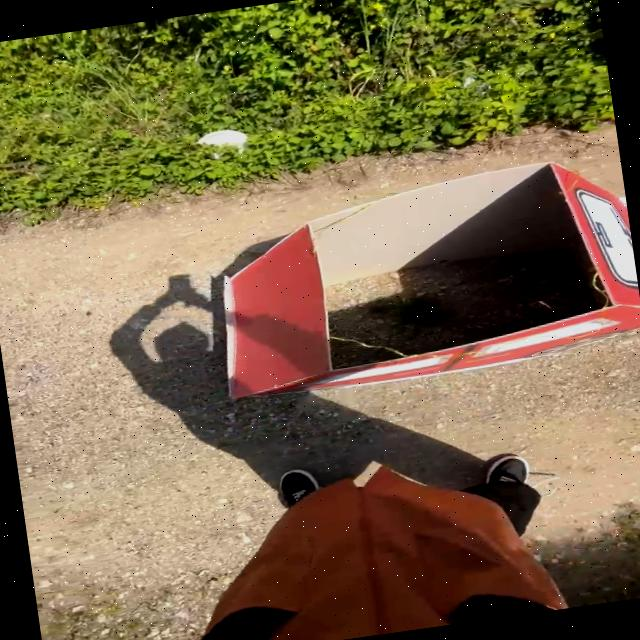red_car: (124, 124, 640, 474)
